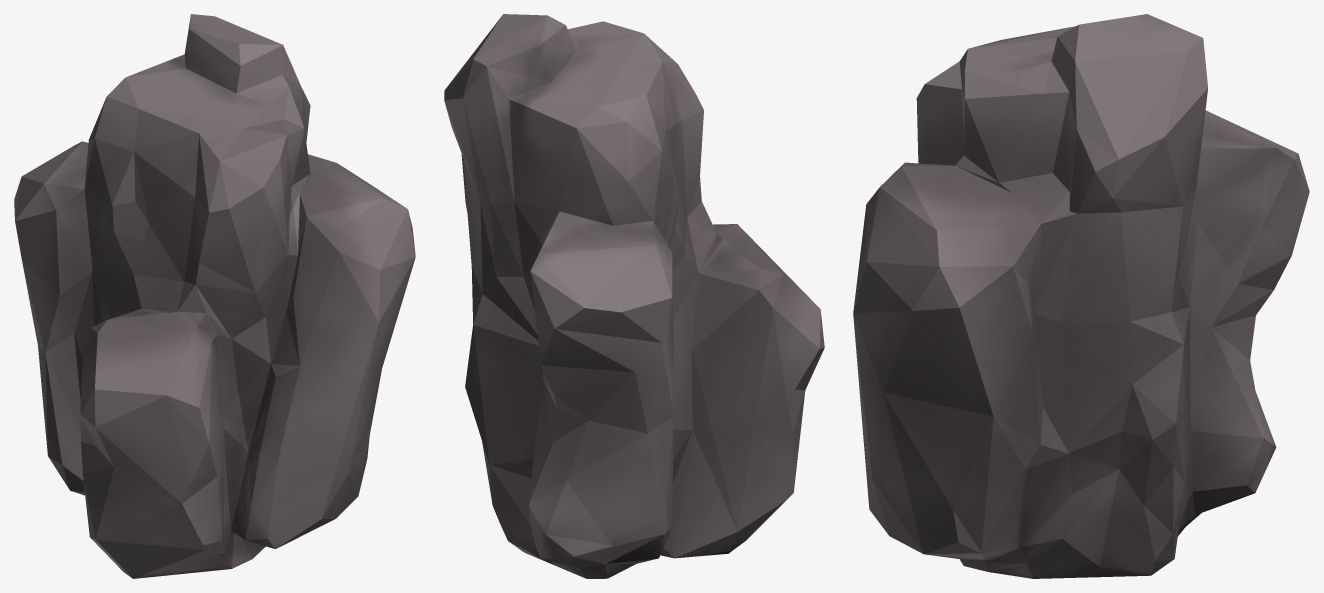
The model's file is deraumere.glb.
3 renders of one model, left to right at view 1: azimuth 30°, elevation 25°; view 2: azimuth 150°, elevation 25°; view 3: azimuth 270°, elevation 25°, orthographic. The views are drawn at different scales.
Parts seen in each view (by area): view 1: Cube_0; view 2: Cube_0; view 3: Cube_0.
Part boxes in pixels (x1,y1,x2,y2): Cube_0: (14,14,415,578); Cube_0: (444,14,824,578); Cube_0: (853,14,1309,578).
Size of what is drawn, in the model's own units: 4.02 by 5.6 by 4.08.
Materials: 1 (1 with a texture image).
